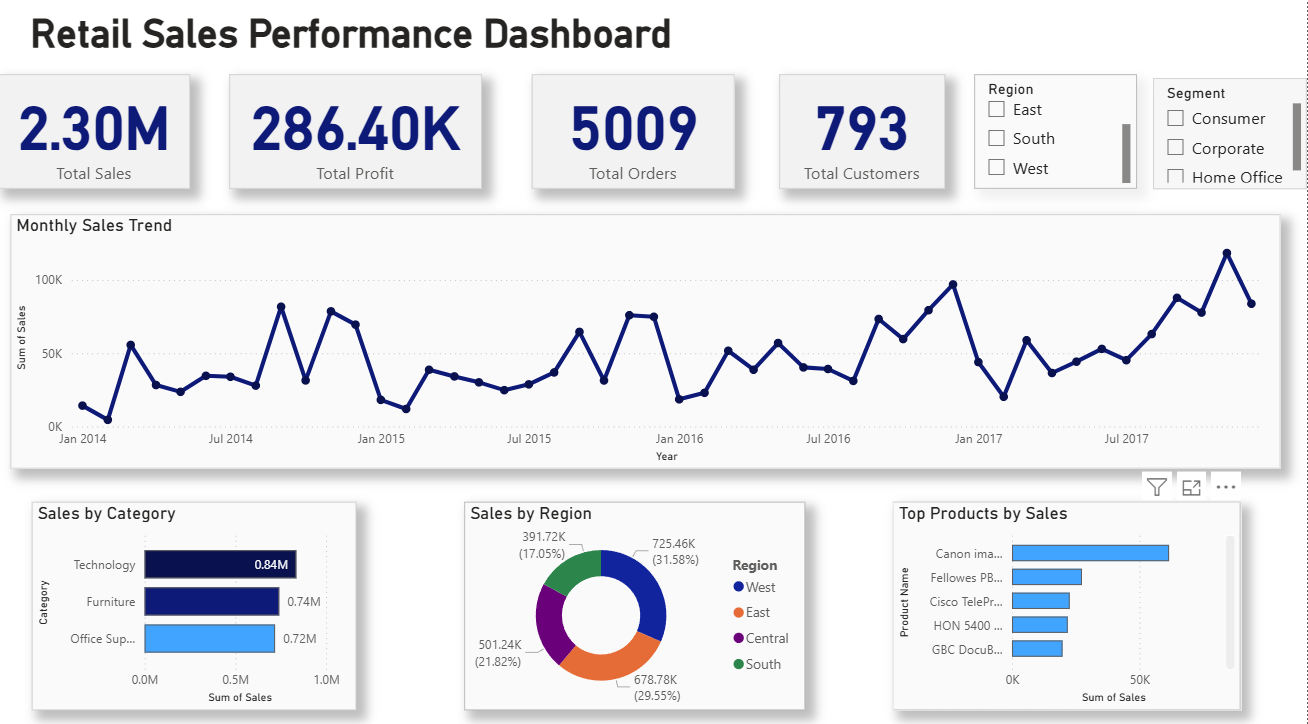

What the dashboard file says about the page in this screenshot:
{"tool":"powerbi","page":{"name":"Sales Dashboard","canvas":[1280,720],"ordinal":0},"visuals":[{"type":"card","fields":{"Values":["Sample - Superstore.Total Sales"]},"box":[0,79.5,188.3,112.3],"z":0},{"type":"card","fields":{"Values":["Sample - Superstore.Total Profit"]},"box":[226.4,79.5,247.1,112.3],"z":1000},{"type":"card","fields":{"Values":["Sample - Superstore.Total Orders"]},"box":[521.8,79.5,198.7,112.3],"z":2000},{"type":"card","fields":{"Values":["Sample - Superstore.Total Customers"]},"box":[763.7,79.5,162.4,112.3],"z":3000},{"type":"lineChart","title":"Monthly Sales Trend","fields":{"Category":["Sample - Superstore.Order Date.Variation.Date Hierarchy.Year","Sample - Superstore.Order Date.Variation.Date Hierarchy.Month"],"Y":["Sum(Sample - Superstore.Sales)"]},"box":[12.1,216,1242.3,248.8],"z":4000},{"type":"barChart","title":"Sales by Category","fields":{"Category":["Sample - Superstore.Category"],"Y":["Sum(Sample - Superstore.Sales)"]},"box":[32.8,497.6,317.9,203.9],"z":5000},{"type":"donutChart","title":"Sales by Region","fields":{"Category":["Sample - Superstore.Region"],"Y":["Sum(Sample - Superstore.Sales)"]},"box":[456.2,497.6,333.5,203.9],"z":6000},{"type":"barChart","title":"Top Products by Sales","fields":{"Category":["Sample - Superstore.Product Name"],"Y":["Sum(Sample - Superstore.Sales)"]},"box":[876,497.6,340.4,203.9],"z":7000},{"type":"textbox","title":"Retail Sales Performance Dashboard","box":[0,17.1,690.9,42.8],"z":8000},{"type":"slicer","fields":{"Values":["Sample - Superstore.Region"]},"box":[955.5,79.5,159,112.3],"z":9000},{"type":"slicer","fields":{"Values":["Sample - Superstore.Segment"]},"box":[1130,82.9,150.3,108.9],"z":10000}]}

Visuals, with their boxes in screenshot pixels (x1, y1, x2, y2), scaled from the page's 1280x720 canvas onto the 1308x724 screenshot:
card - Sample - Superstore.Total Sales: <box>0,80,192,193</box>
card - Sample - Superstore.Total Profit: <box>231,80,484,193</box>
card - Sample - Superstore.Total Orders: <box>533,80,736,193</box>
card - Sample - Superstore.Total Customers: <box>780,80,946,193</box>
"Monthly Sales Trend" lineChart: <box>12,217,1282,467</box>
"Sales by Category" barChart: <box>34,500,358,705</box>
"Sales by Region" donutChart: <box>466,500,807,705</box>
"Top Products by Sales" barChart: <box>895,500,1243,705</box>
"Retail Sales Performance Dashboard" textbox: <box>0,17,706,60</box>
slicer - Sample - Superstore.Region: <box>976,80,1139,193</box>
slicer - Sample - Superstore.Segment: <box>1155,83,1307,193</box>
